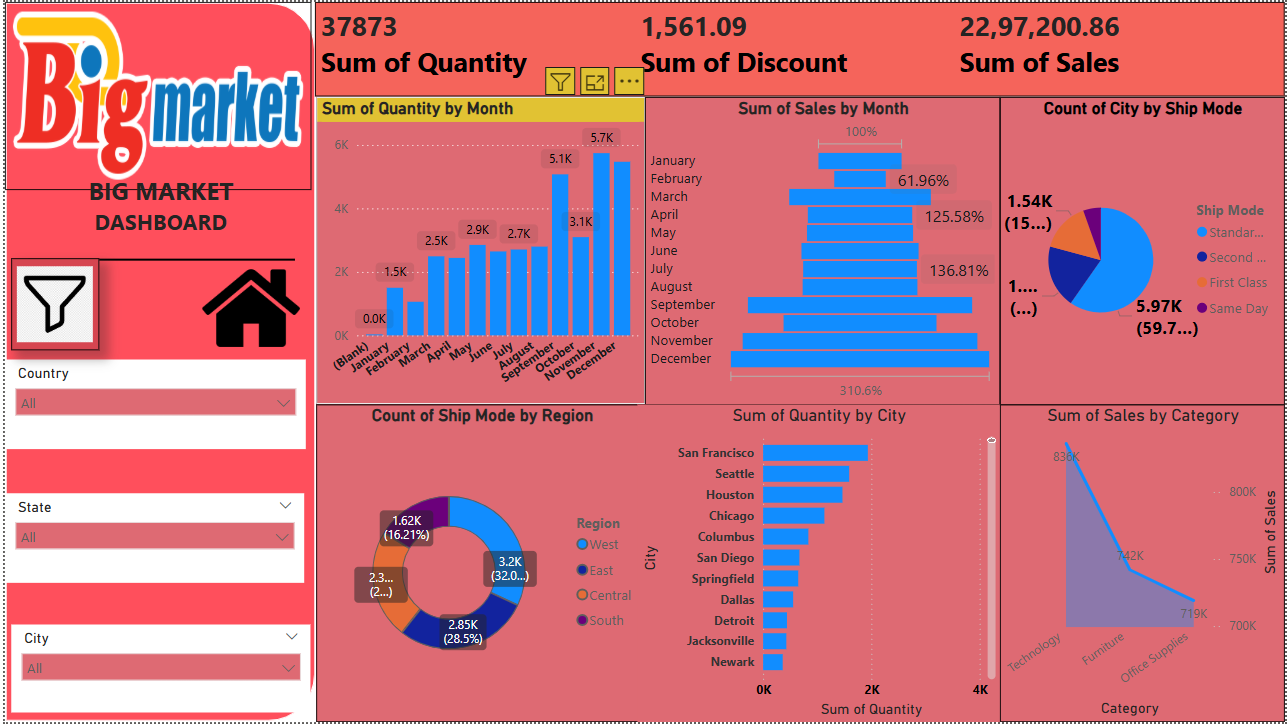

The page's visual inventory and layout, read from the dashboard file:
{"tool":"powerbi","page":{"name":"Page 1","canvas":[1280,720],"ordinal":0},"visuals":[{"type":"shape","box":[0,0,311.1,720],"z":0},{"type":"image","box":[0,0,306.7,187.8],"z":1000},{"type":"shape","box":[23.3,178.4,266.2,157.8],"z":2000},{"type":"textbox","box":[76.8,167.4,159.2,102.9],"z":3000},{"type":"multiRowCard","fields":{"Values":["Sum(Orders.Quantity)","Sum(Orders.Discount)","Sum(Orders.Sales)"]},"box":[310.6,0,969.7,94.2],"z":4000},{"type":"clusteredColumnChart","fields":{"Y":["Sum(Orders.Quantity)"],"Category":["Orders.Order Date.Variation.Date Hierarchy.Month"]},"box":[311.1,94.4,328.9,307.8],"z":5000},{"type":"donutChart","fields":{"Y":["CountNonNull(Orders.Ship Mode)"],"Category":["Orders.Region","Orders.State"]},"box":[311.1,402.2,331.1,317.8],"z":6000},{"type":"funnel","fields":{"Category":["Orders.Ship Date.Variation.Date Hierarchy.Month"],"Y":["Sum(Orders.Sales)"]},"box":[640,94.4,355.6,307.8],"z":7000},{"type":"clusteredBarChart","fields":{"Category":["Orders.City"],"Y":["Sum(Orders.Quantity)"]},"box":[632.2,402.2,363.3,317.8],"z":8000},{"type":"lineChart","fields":{"Y2":["Sum(Orders.Sales)"],"Category":["Orders.Category"]},"box":[995.6,402.2,284.4,317.8],"z":9000},{"type":"pieChart","fields":{"Y":["CountNonNull(Orders.City)"],"Category":["Orders.Ship Mode"]},"box":[995.6,94.4,284.4,307.8],"z":10000},{"type":"slicer","fields":{"Values":["Orders.Country"]},"box":[0,357.1,300.8,89.3],"z":11000},{"type":"slicer","fields":{"Values":["Orders.City"]},"box":[6.1,622.4,299.6,88],"z":12000},{"type":"slicer","fields":{"Values":["Orders.State"]},"box":[0,491.6,299.6,89.3],"z":13000},{"type":"image","box":[6.1,256.8,88,91.7],"z":13001},{"type":"image","box":[192,251.9,107.6,107.6],"z":13002}]}

Visuals, with their boxes in screenshot pixels (x1, y1, x2, y2), scaled from the page's 1280x720 canvas onto the 1287x726 screenshot:
shape: select_region(0, 0, 313, 725)
image: select_region(0, 0, 308, 189)
shape: select_region(23, 180, 291, 339)
textbox: select_region(77, 169, 237, 273)
multiRowCard - Sum(Orders.Quantity) x Sum(Orders.Discount): select_region(312, 0, 1286, 95)
clusteredColumnChart - Sum(Orders.Quantity) x Orders.Order Date.Variation.Date Hierarchy.Month: select_region(313, 95, 644, 406)
donutChart - CountNonNull(Orders.Ship Mode) x Orders.Region: select_region(313, 406, 646, 725)
funnel - Orders.Ship Date.Variation.Date Hierarchy.Month x Sum(Orders.Sales): select_region(644, 95, 1001, 406)
clusteredBarChart - Orders.City x Sum(Orders.Quantity): select_region(636, 406, 1001, 725)
lineChart - Sum(Orders.Sales) x Orders.Category: select_region(1001, 406, 1286, 725)
pieChart - CountNonNull(Orders.City) x Orders.Ship Mode: select_region(1001, 95, 1286, 406)
slicer - Orders.Country: select_region(0, 360, 302, 450)
slicer - Orders.City: select_region(6, 628, 307, 716)
slicer - Orders.State: select_region(0, 496, 301, 586)
image: select_region(6, 259, 95, 351)
image: select_region(193, 254, 301, 362)
